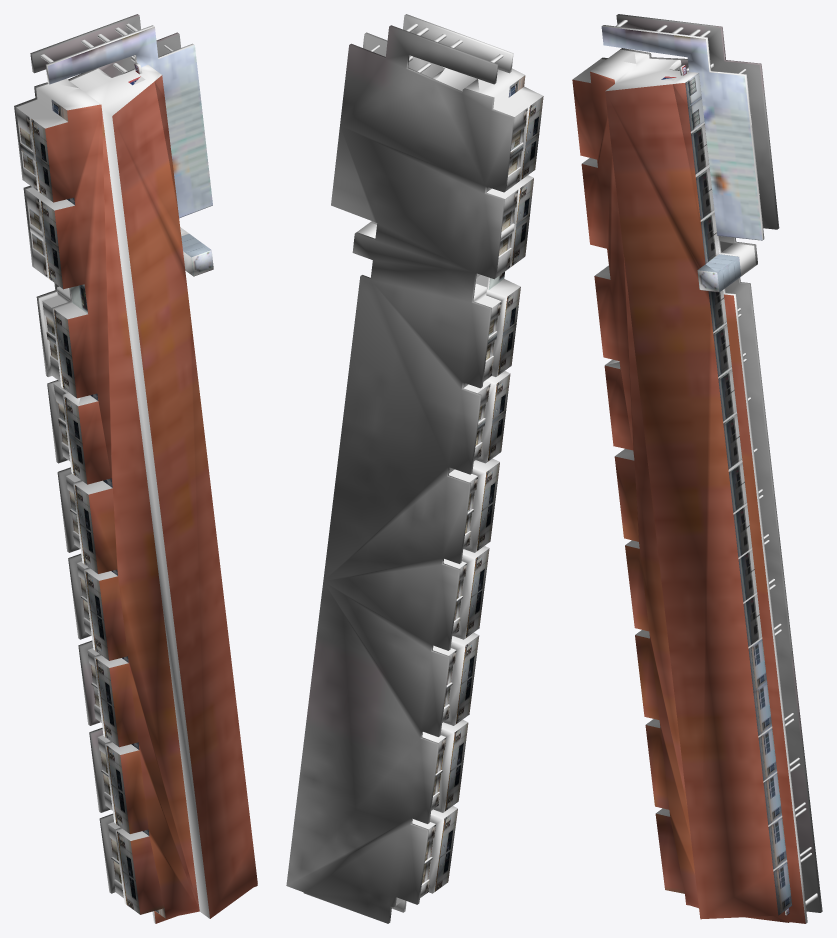
Rendered from amk_blk727_building.obj.
3 renders of one model, left to right at view 1: azimuth 30°, elevation 25°; view 2: azimuth 150°, elevation 25°; view 3: azimuth 330°, elevation 25°, orthographic. The views are drawn at different scales.
Parts seen in each view (by area): view 1: polygon.870; view 2: polygon.870; view 3: polygon.870.
Boxes of the visible parts, bbox=[...] form: polygon.870: bbox=[14, 14, 257, 923]; polygon.870: bbox=[286, 14, 543, 923]; polygon.870: bbox=[572, 14, 822, 923].
Bounding box in the file's own units: 31.55 × 120 × 11.54.
Materials: 1 (1 with a texture image).
